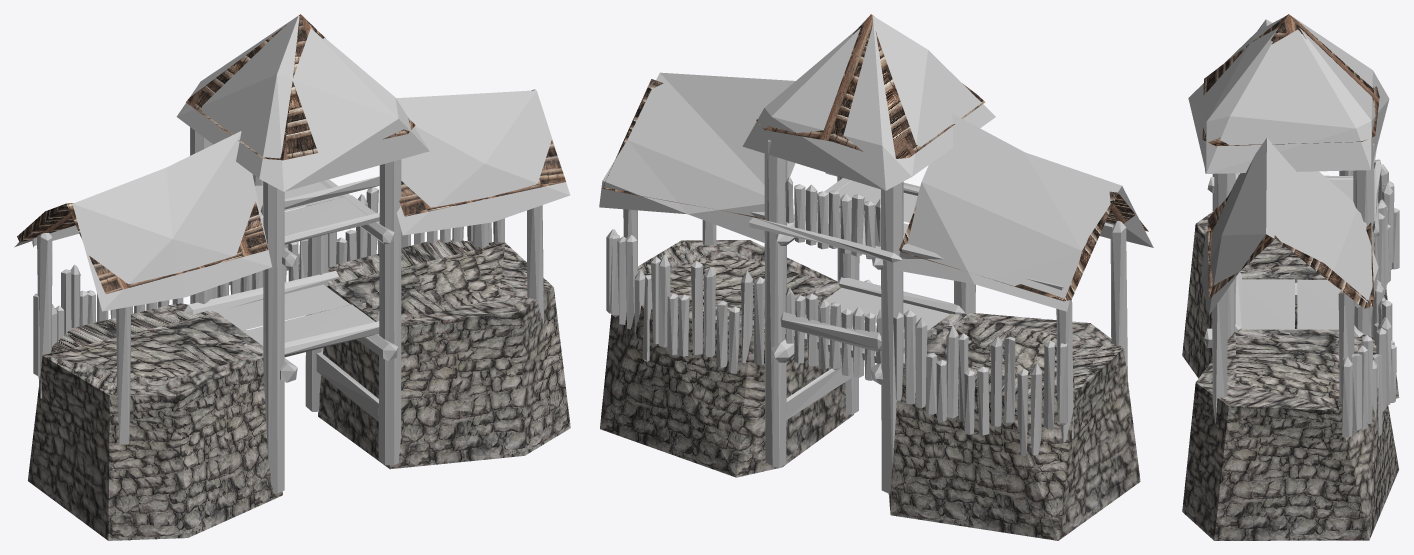
Rendered from TowerGate_1_LOD3.fbx.
The picture shows the model from 3 angles, left to right: view 1: azimuth 30°, elevation 25°; view 2: azimuth 150°, elevation 25°; view 3: azimuth 270°, elevation 25°; orthographic projection. The views are drawn at different scales.
Visible parts, largest first — view 1: Stone, Alphas, Wood, Roof; view 2: Alphas, Stone, Wood, Roof; view 3: Stone, Alphas, Wood, Roof.
Part boxes in pixels (x1,y1,x2,y2): Stone: [28, 239, 570, 540]; Alphas: [14, 15, 570, 311]; Wood: [32, 127, 543, 493]; Roof: [17, 14, 565, 293]; Alphas: [599, 16, 1153, 311]; Stone: [600, 240, 1140, 540]; Wood: [606, 139, 1127, 493]; Roof: [602, 14, 1148, 301]; Stone: [1182, 211, 1399, 540]; Alphas: [1188, 16, 1389, 327]; Wood: [1204, 143, 1399, 437]; Roof: [1202, 14, 1379, 308].
Bounding box in the file's own units: 1776 × 741 × 1577.
